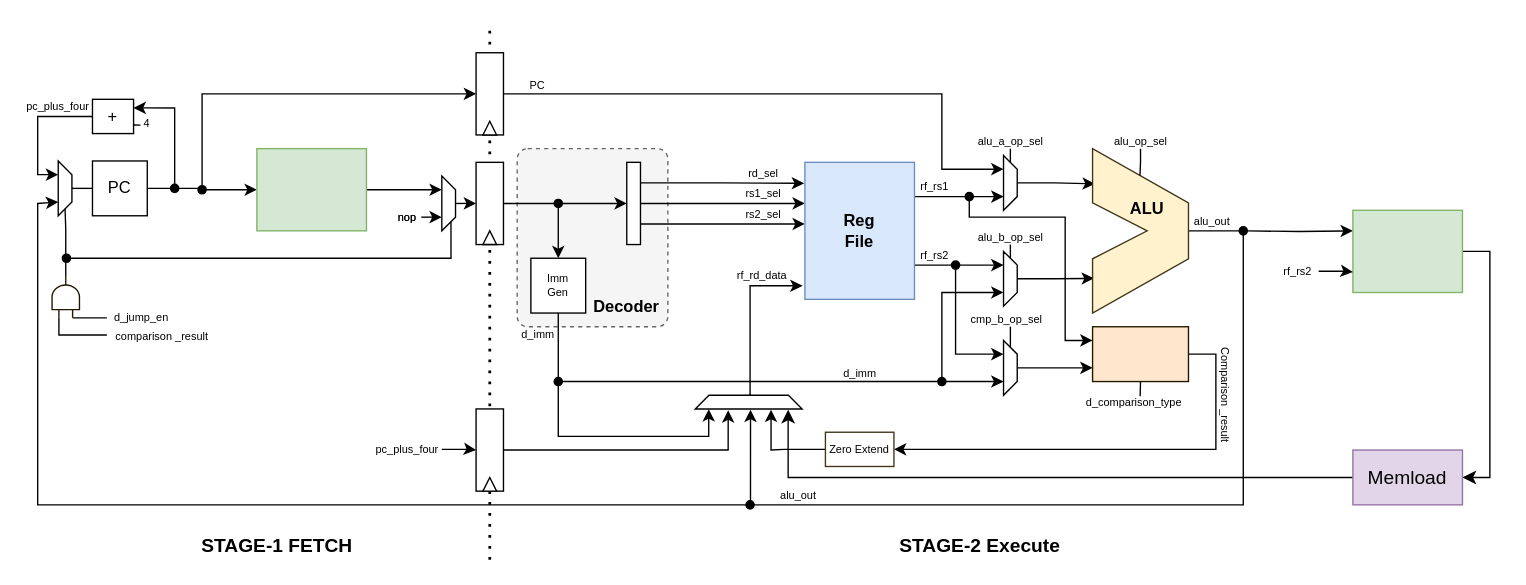
Some shapes in this 1526 by 585 pixel diagram are drawn without their labels. Here are the shapes that lost their labels. From the top down, the centre of each, then its label:
At (x=311, y=189): "IMEM".
At (x=1407, y=250): "DMEM".
At (x=1139, y=353): "Comparator".
